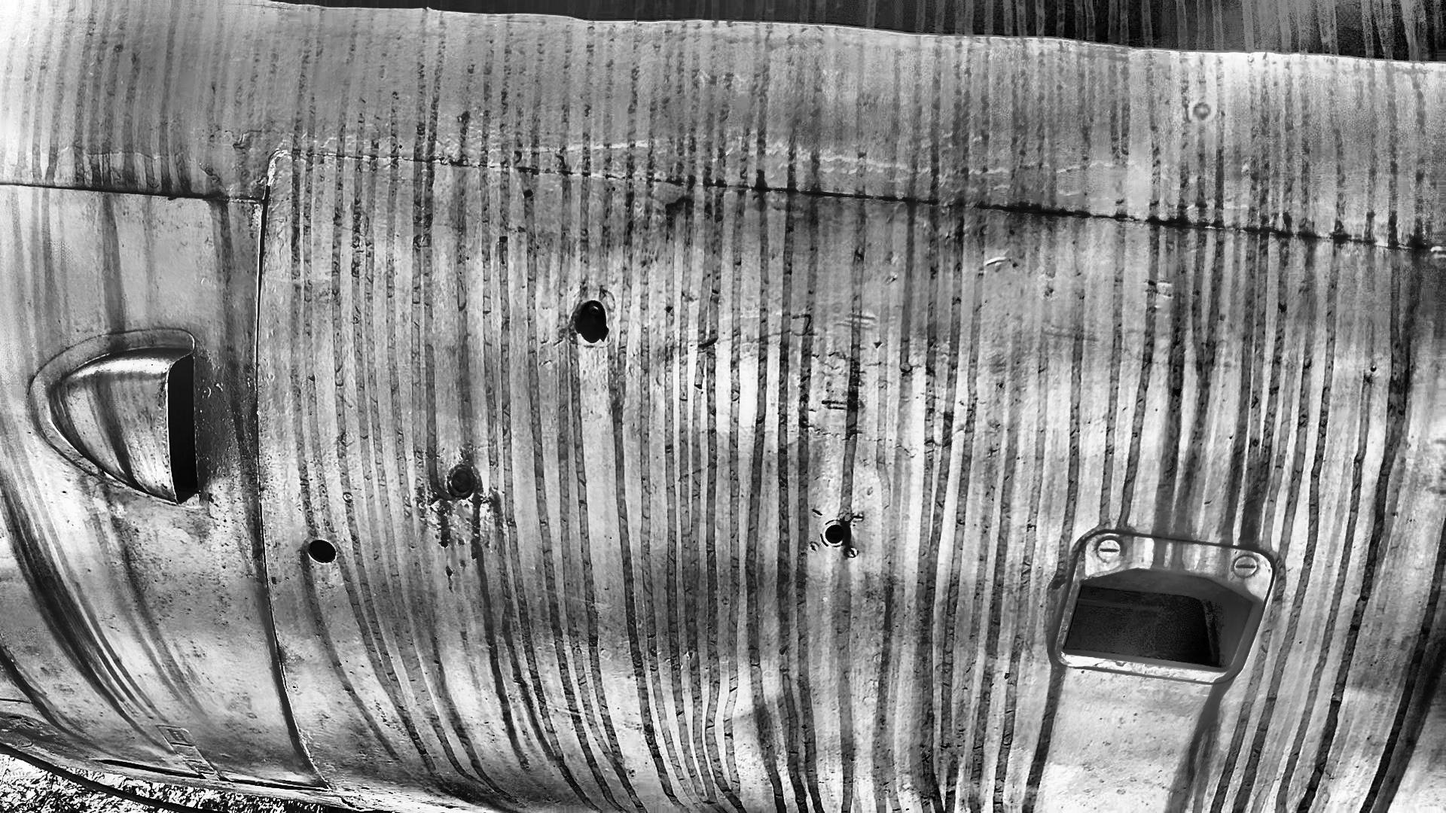crack: (53, 143, 164, 166)
paint-peel-off: (429, 495, 455, 516)
scratch: (982, 256, 1009, 268)
